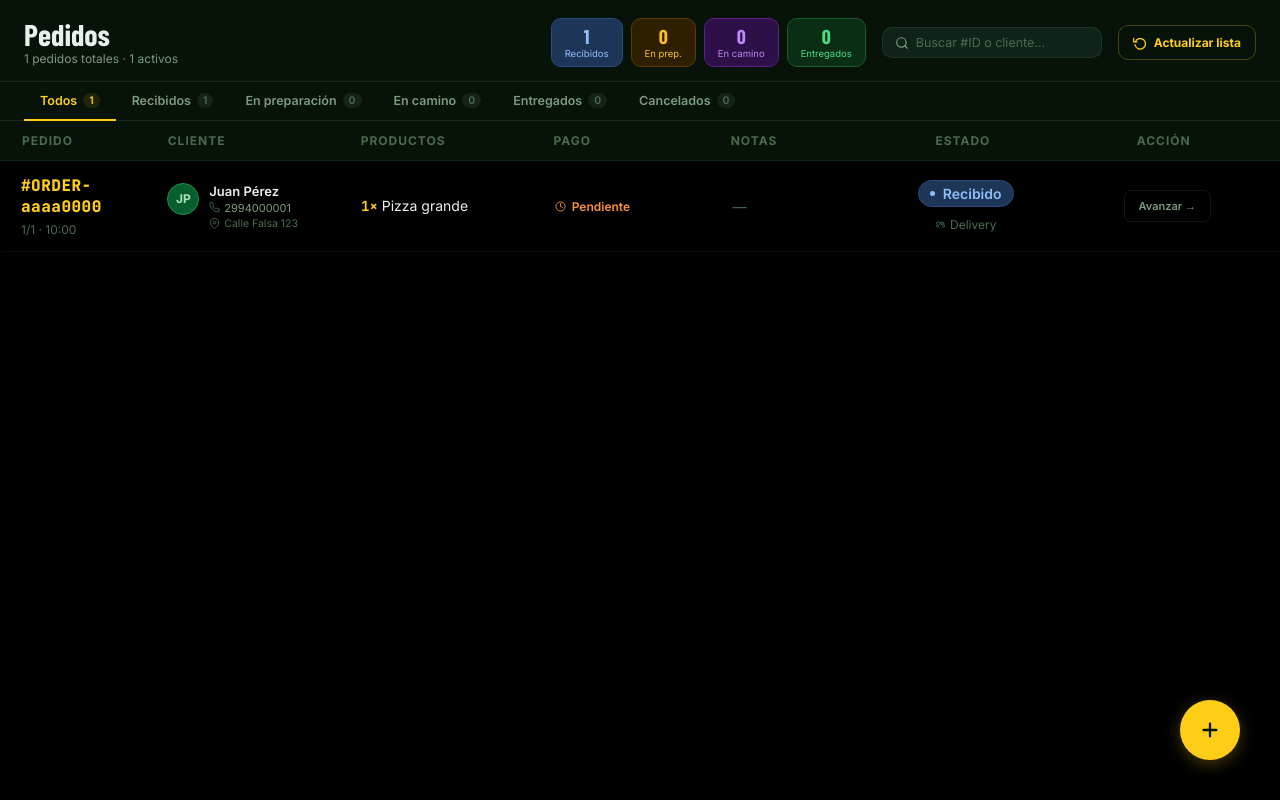
Test: trazabilidad del descuento (US-19-03) › sin nota, no renderiza el bloque de nota
Step 1. Click the element with class "orders-row" → (640, 206), box [0,161,1279,252]
(page scrolled)
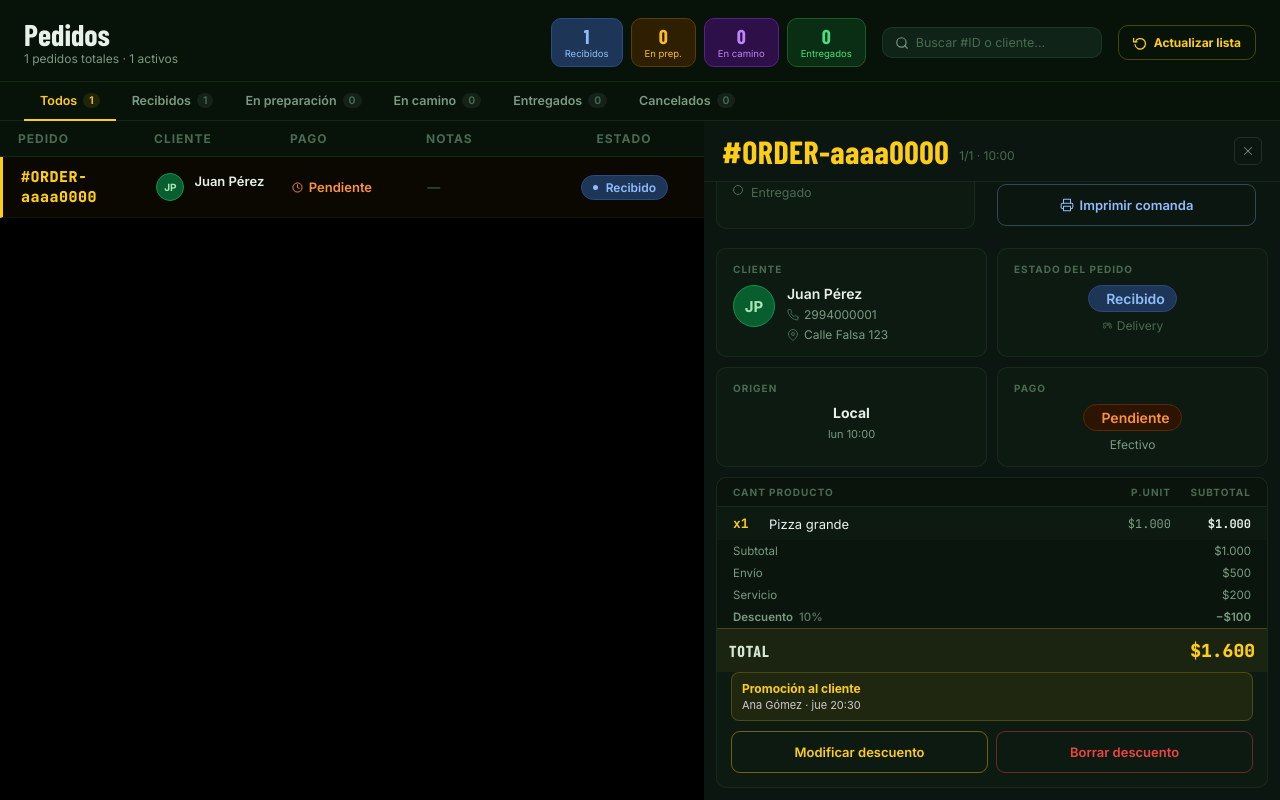
Expected: the element with class "detail-discount-trace" is shown, [731,672,1253,721]
